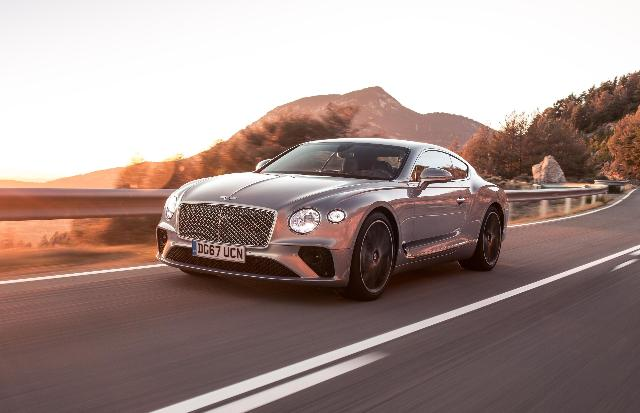bentley: (155, 137, 510, 301)
